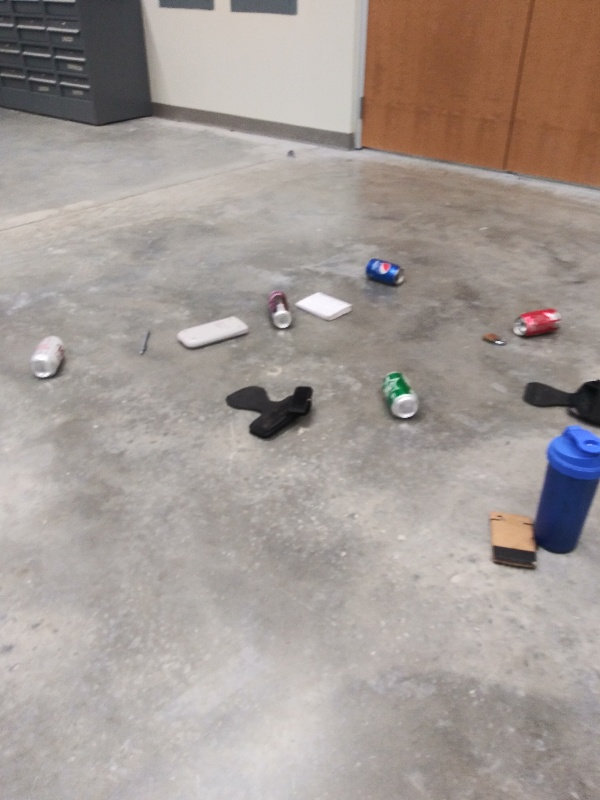can: (380, 366, 423, 424), (28, 331, 68, 382), (507, 305, 563, 338), (362, 255, 406, 287), (265, 287, 293, 331)
